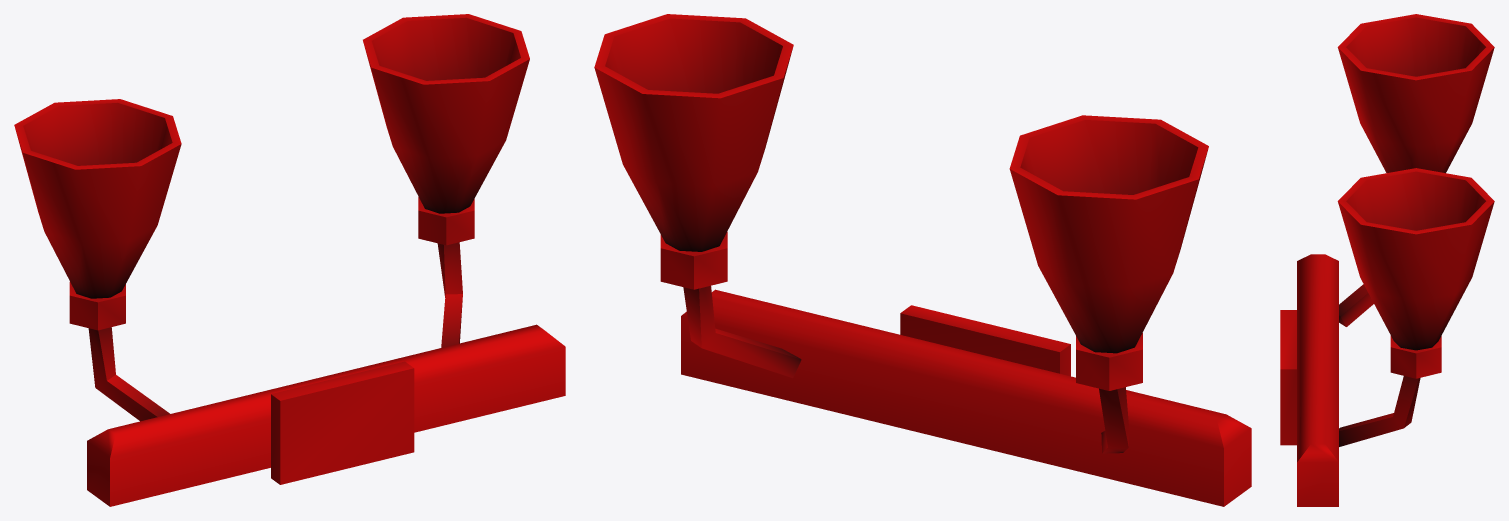
Rendered from CI_Bathroom_Sconce_Wall.fbx.
3 views of the same model, side by side, from view 1: azimuth 30°, elevation 25°; view 2: azimuth 150°, elevation 25°; view 3: azimuth 270°, elevation 25° (orthographic). The views are drawn at different scales.
Parts seen in each view (by area): view 1: CI_Bathroom_Sconce_Wall; view 2: CI_Bathroom_Sconce_Wall; view 3: CI_Bathroom_Sconce_Wall.
Boxes of the visible parts, x1,y1,x2,y2 form: CI_Bathroom_Sconce_Wall: (14, 14, 565, 506); CI_Bathroom_Sconce_Wall: (594, 14, 1251, 506); CI_Bathroom_Sconce_Wall: (1280, 14, 1494, 506).
Bounding box in the file's own units: 0.372 × 0.2295 × 0.153.
